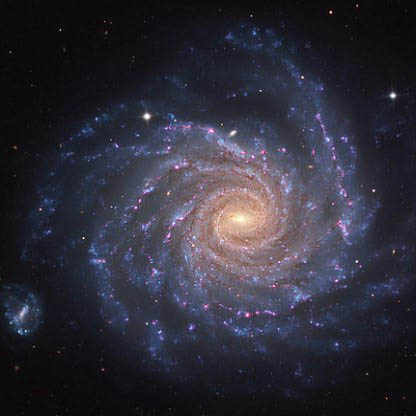NGC 1232: (6, 23, 410, 382)
